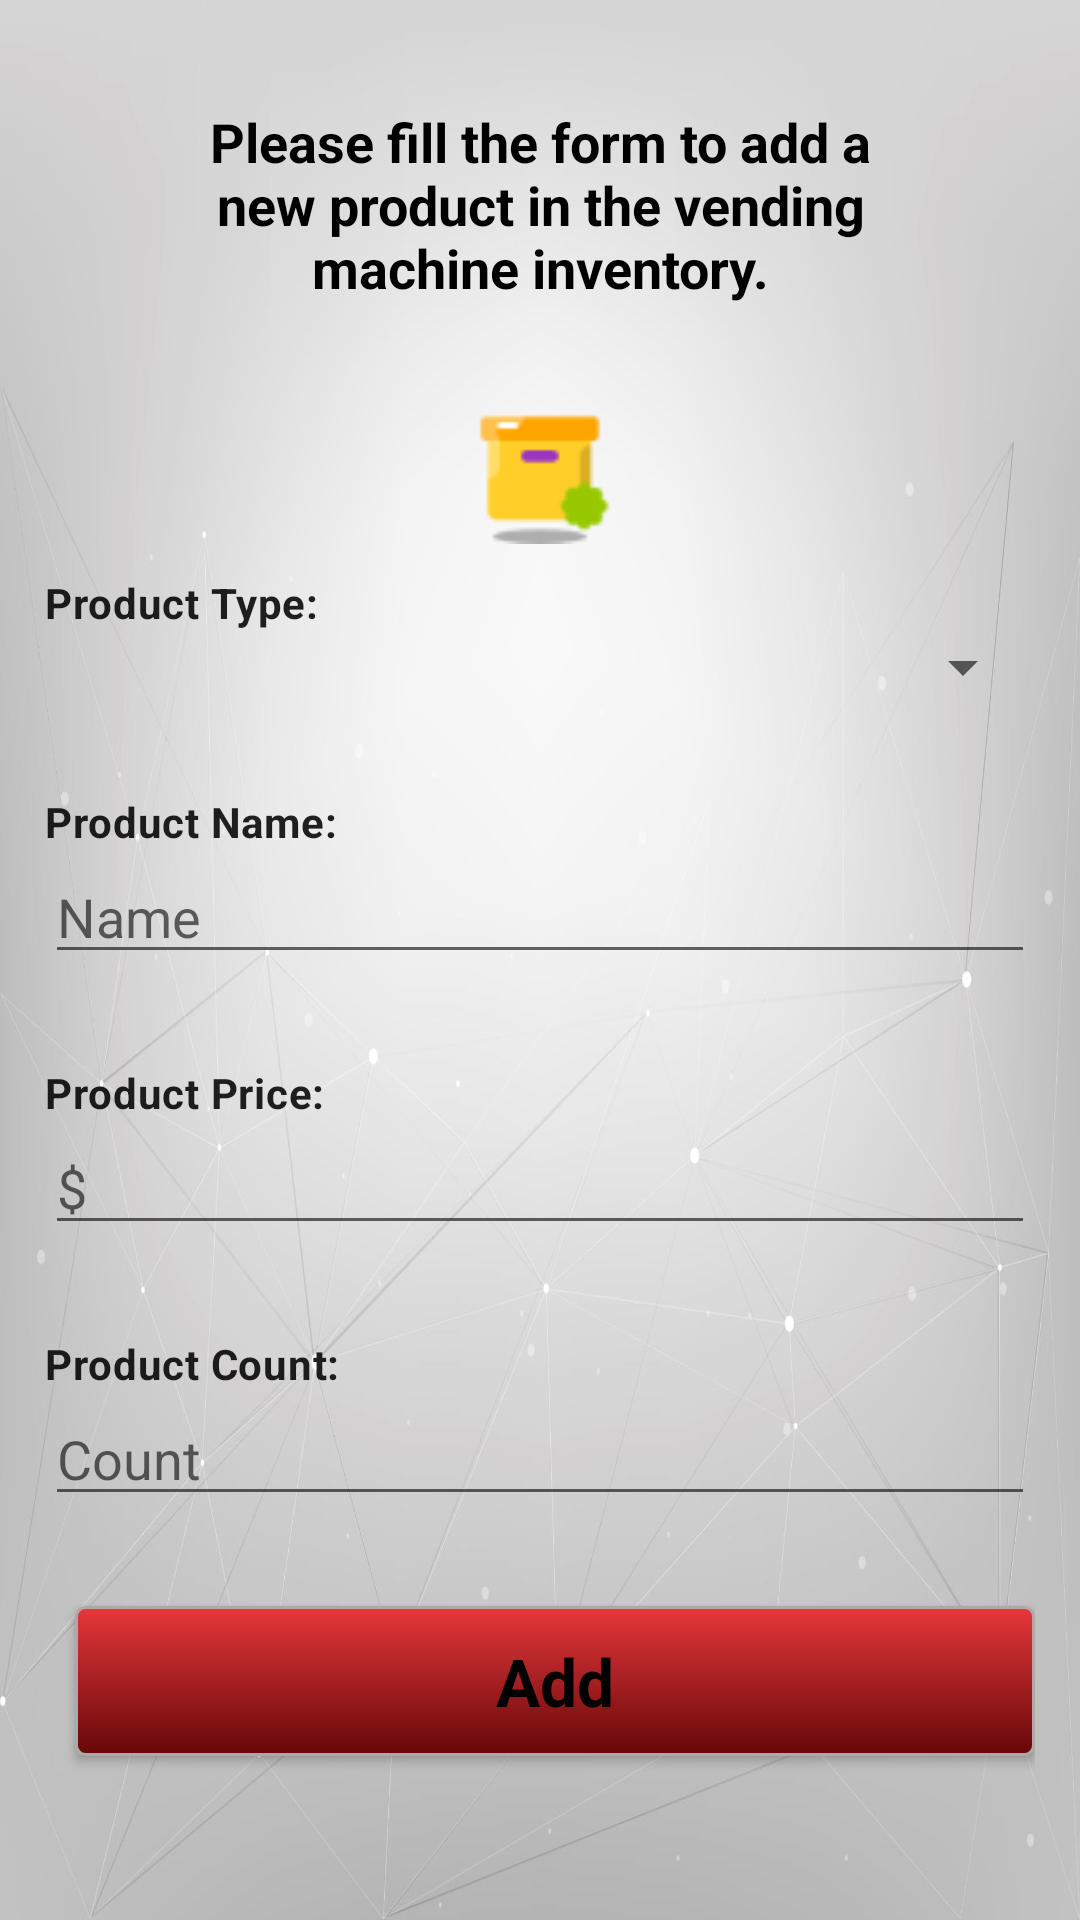

Point at icon controls on the screen. Image size 1080x1920, points as (x=x, y=y).
product other: (x=545, y=479)
